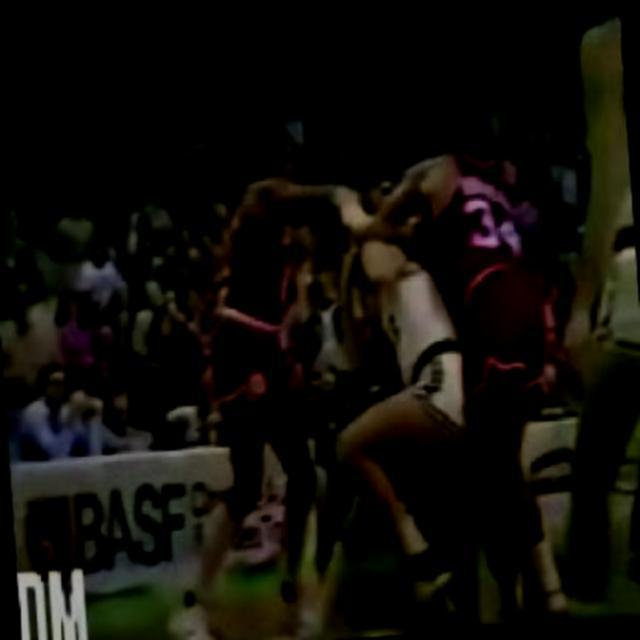fight: (329, 111, 571, 636)
